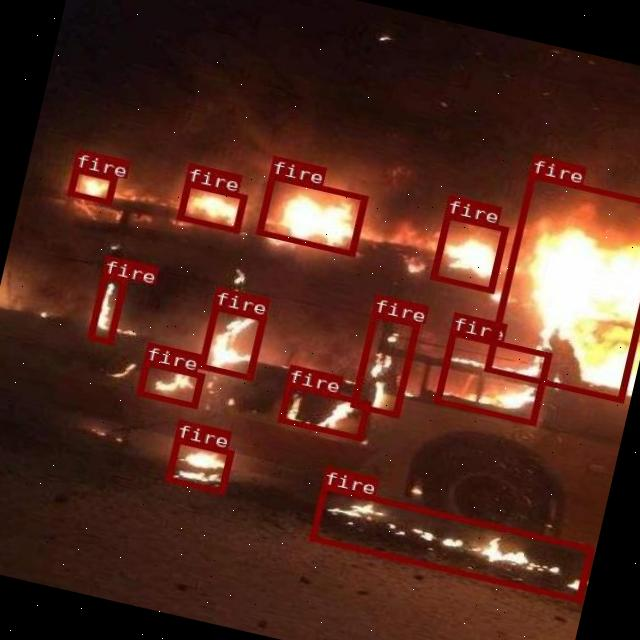fire: (483, 172, 640, 402), (308, 484, 592, 602), (432, 329, 550, 424), (254, 172, 367, 255), (350, 311, 419, 416), (428, 212, 506, 292), (276, 381, 369, 440), (198, 302, 266, 379), (163, 436, 232, 493), (176, 180, 247, 232), (135, 358, 203, 406), (85, 272, 125, 344), (65, 166, 116, 204)
